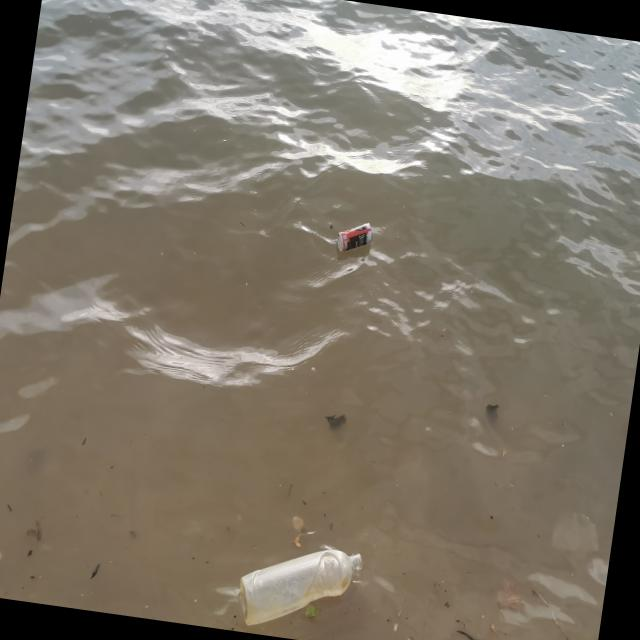can: (337, 220, 376, 257)
plastic bottle: (236, 537, 365, 640)
